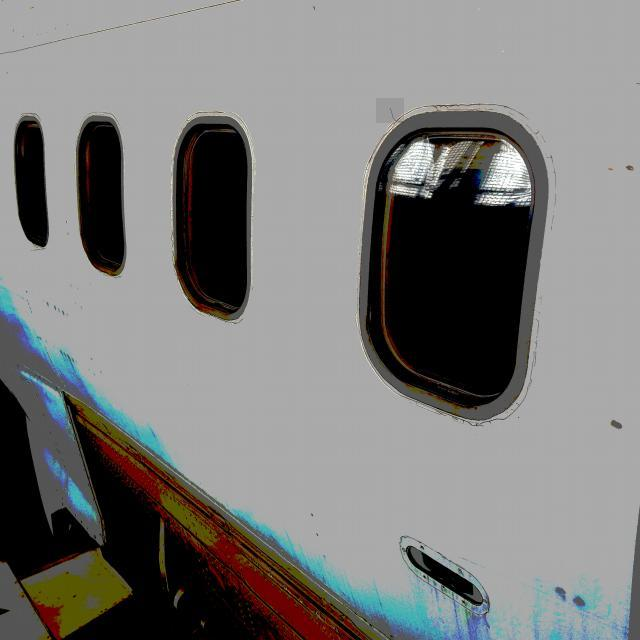crack: (377, 99, 405, 124)
